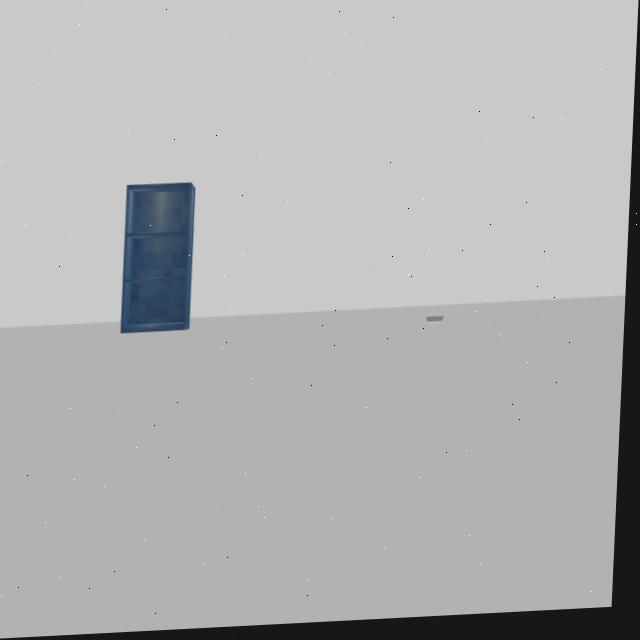bowl: (426, 312, 450, 336)
shelf: (119, 179, 201, 342)
